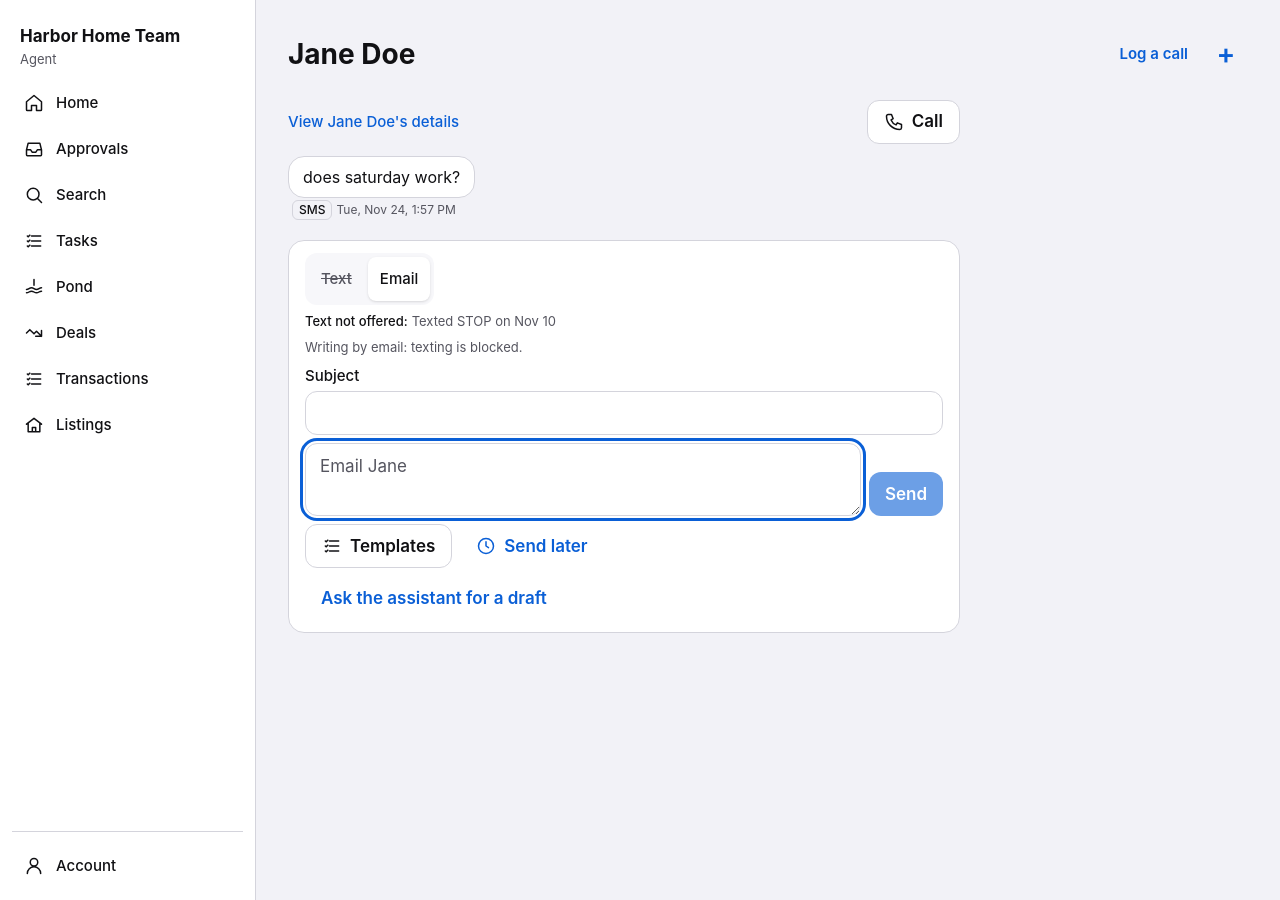
Test: Thread › D1: opened to text a person who texted STOP, the box never offers Text: the option is disabled with the exact reason, and it writes by email and says why
This screenshot has width=1280, height=900.
Expected: the text "Texted STOP on Nov 10" is shown, [412,313,556,331]
Expected: the radio button labelled "Text" is disabled, [309,257,364,301]
Type "Saturday?" into the text box named "Email message" at x=583, y=480, box [305,443,861,516]
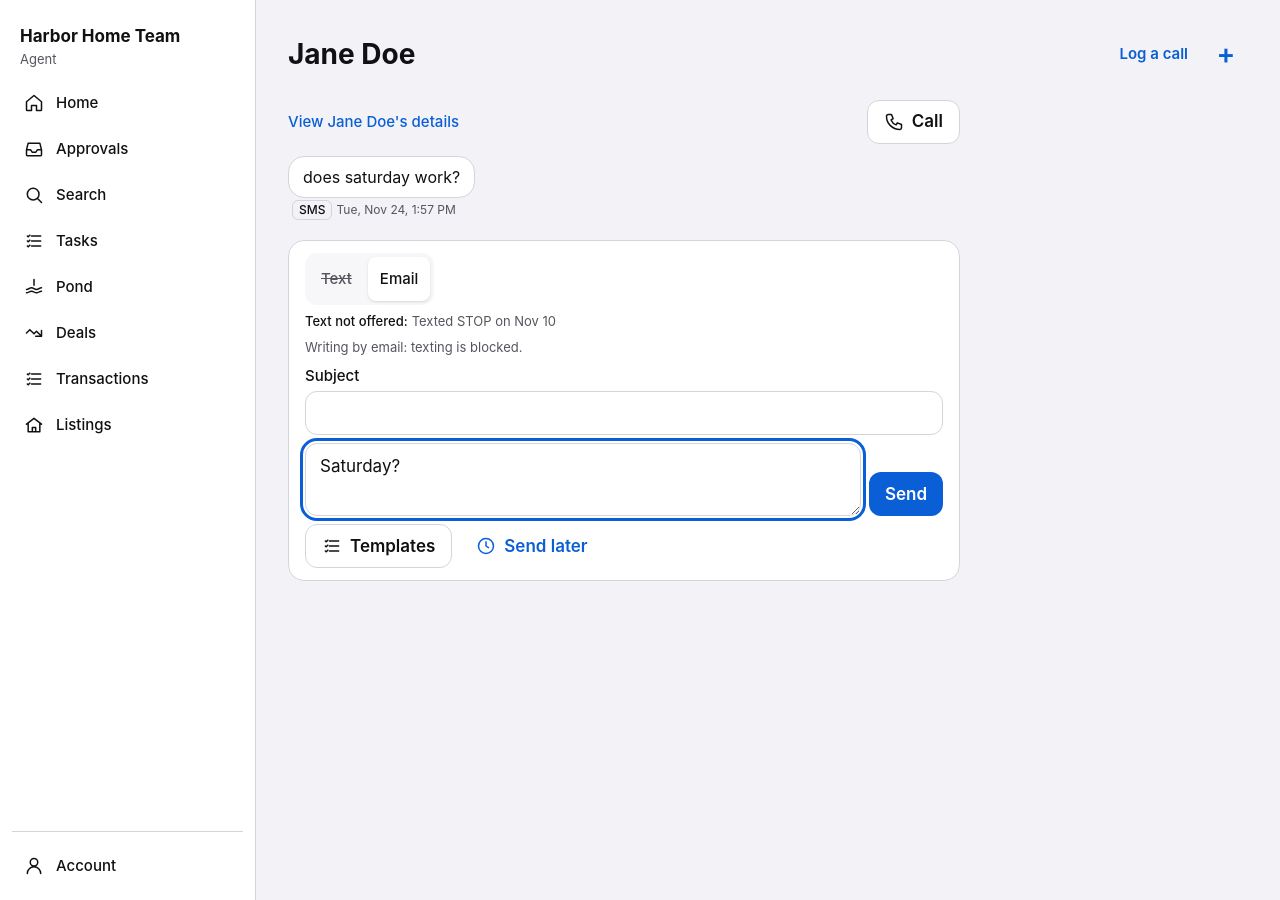
Expected: the button "Send" is enabled, [869,472,943,516]
